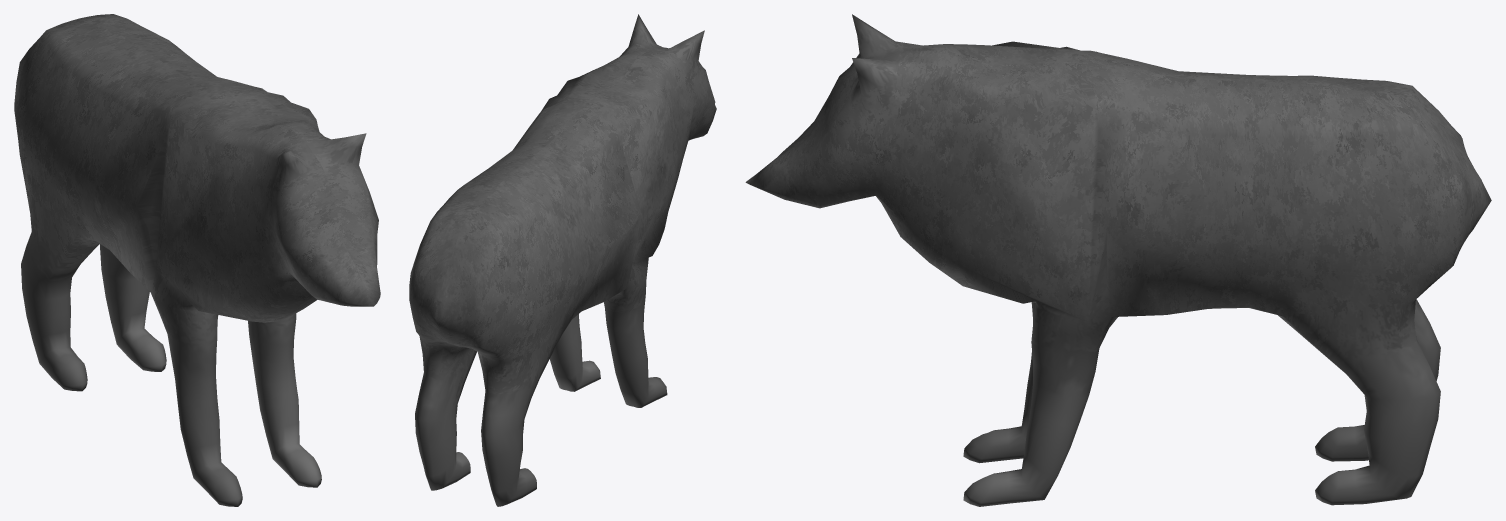
The model's file is piesblend_000039.obj.
The picture shows the model from 3 angles, left to right: view 1: azimuth 30°, elevation 25°; view 2: azimuth 150°, elevation 25°; view 3: azimuth 270°, elevation 25°; orthographic projection. The views are drawn at different scales.
Visible parts, largest first — view 1: Cube; view 2: Cube; view 3: Cube.
Part boxes in pixels (x1,y1,x2,y2): Cube: [14, 14, 380, 506]; Cube: [409, 14, 716, 506]; Cube: [745, 14, 1491, 506].
Size of the model in its own units: 2.55 by 5.91 by 9.03.
Materials: 1 (1 with a texture image).
